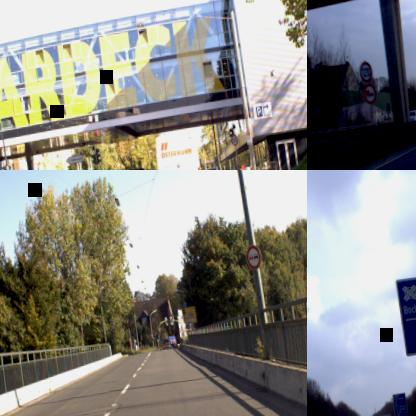no overtaking: (362, 82, 377, 104)
no overtaking (trucks): (244, 242, 262, 270)
speed limit 120: (358, 59, 374, 82)
speed limit 50: (230, 132, 238, 146)
